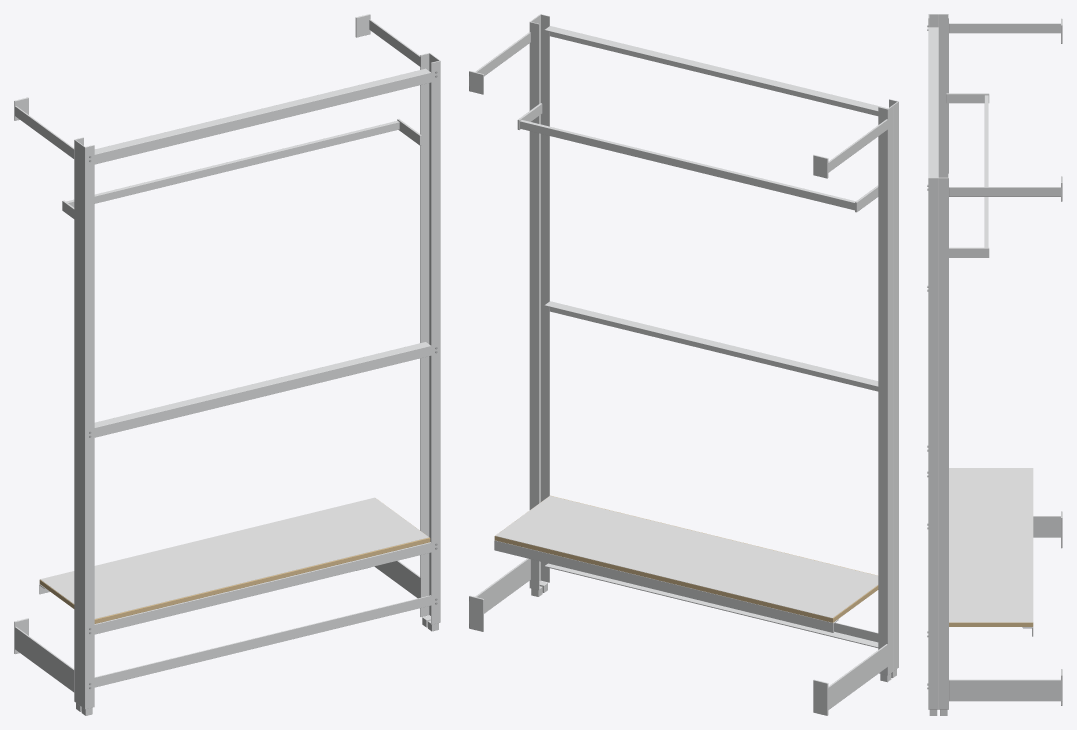
3 renders of one model, left to right at view 1: azimuth 30°, elevation 25°; view 2: azimuth 150°, elevation 25°; view 3: azimuth 270°, elevation 25°, orthographic. The views are drawn at different scales.
Parts seen in each view (by area): view 1: shelf0.top, col-1.front.x, col1.front.x, col1.back.x, shelf0.front.z, rail.bottom.z, beam.1150.z, col-1.front.y, col-1.back.y, rail.top.z, hang.1950, beam.1150.y (+6 smaller); view 2: shelf0.top, col-1.back.x, col1.back.x, col1.front.x, col-1.back.y, col-1.front.y, hang.1950, shelf0.back.z, rail.top.y, beam.1150.y, shelf0.core, rail.bottom.y (+6 smaller); view 3: shelf0.top, col1.back.y, col1.front.y, bracket.bottom1, rail.top.y, col-1.back.y, bracket.top-1, bracket.top1, hang.1950, bracket.bottom-1, col1.back.x, col1.front.x (+3 smaller).
Boxes of the visible parts, x1=… form: shelf0.top: x1=40, y1=497, x2=428, y2=618; col-1.front.x: x1=84, y1=145, x2=94, y2=709; col1.front.x: x1=431, y1=60, x2=440, y2=624; col1.back.x: x1=420, y1=53, x2=429, y2=616; shelf0.front.z: x1=94, y1=542, x2=431, y2=634; rail.bottom.z: x1=94, y1=595, x2=431, y2=687; beam.1150.z: x1=94, y1=345, x2=431, y2=437; col-1.front.y: x1=79, y1=143, x2=85, y2=708; col-1.back.y: x1=74, y1=139, x2=80, y2=704; rail.top.z: x1=94, y1=73, x2=431, y2=164; hang.1950: x1=62, y1=120, x2=399, y2=210; beam.1150.y: x1=94, y1=342, x2=431, y2=428; shelf0.top: x1=495, y1=496, x2=878, y2=618; col-1.back.x: x1=878, y1=107, x2=888, y2=675; col1.back.x: x1=529, y1=21, x2=539, y2=590; col1.front.x: x1=541, y1=14, x2=549, y2=582; col-1.back.y: x1=887, y1=105, x2=893, y2=674; col-1.front.y: x1=893, y1=101, x2=898, y2=671; hang.1950: x1=520, y1=120, x2=859, y2=210; shelf0.back.z: x1=494, y1=541, x2=833, y2=632; rail.top.y: x1=544, y1=26, x2=887, y2=111; beam.1150.y: x1=544, y1=301, x2=878, y2=387; shelf0.core: x1=494, y1=495, x2=878, y2=622; rail.bottom.y: x1=544, y1=563, x2=878, y2=647; shelf0.top: x1=949, y1=468, x2=1033, y2=622; col1.back.y: x1=938, y1=177, x2=948, y2=709; col1.front.y: x1=928, y1=177, x2=938, y2=709; bracket.bottom1: x1=949, y1=679, x2=1062, y2=701; rail.top.y: x1=928, y1=27, x2=938, y2=177; col-1.back.y: x1=938, y1=14, x2=947, y2=177; bracket.top-1: x1=949, y1=23, x2=1060, y2=33; bracket.top1: x1=949, y1=187, x2=1062, y2=196; hang.1950: x1=984, y1=95, x2=988, y2=256; bracket.bottom-1: x1=1033, y1=516, x2=1060, y2=537; col1.back.x: x1=948, y1=173, x2=948, y2=709; col1.front.x: x1=928, y1=173, x2=929, y2=709.
Bounding box in the file's own units: 1.5 × 2.29 × 0.52.
